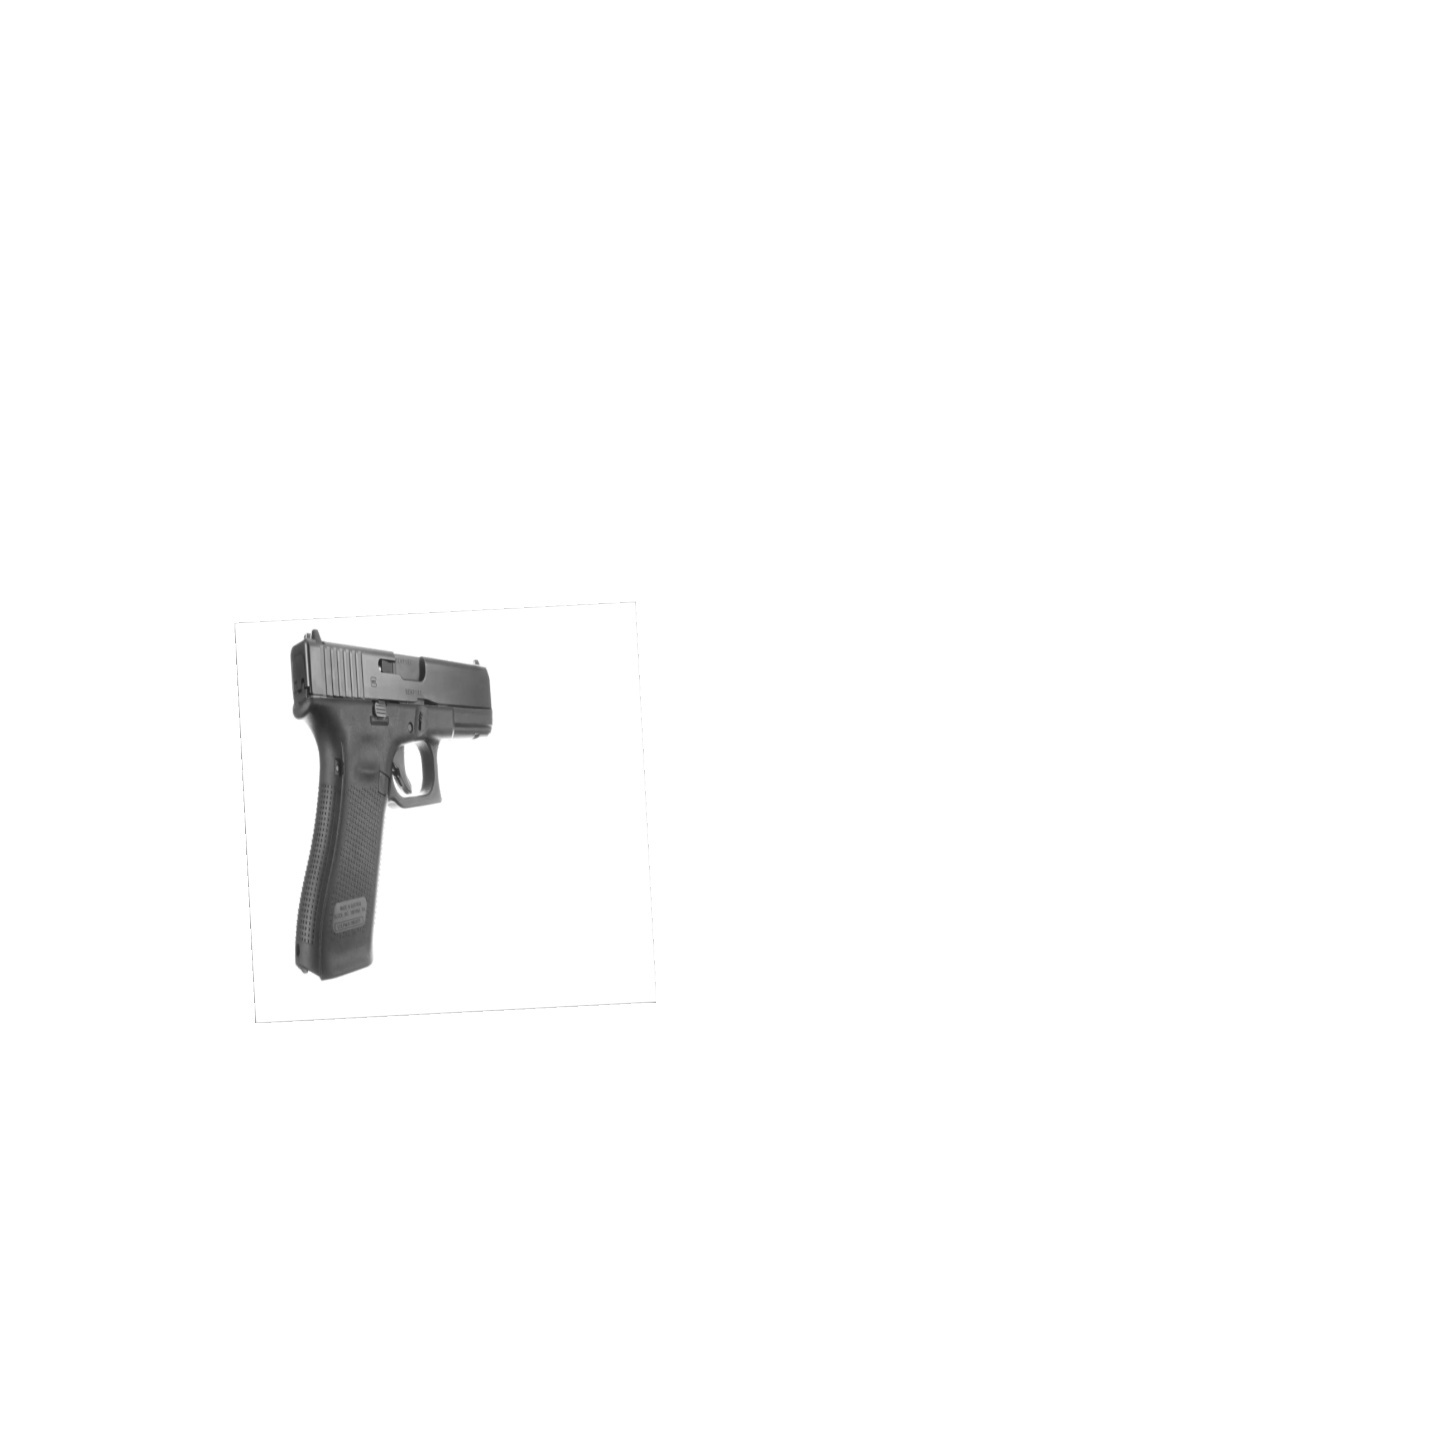gun: (280, 622, 496, 988)
